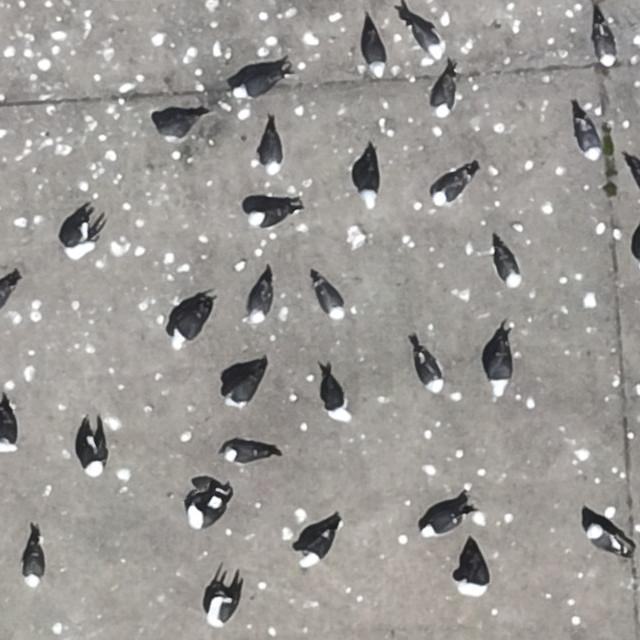umineko: (185, 481, 232, 528), (63, 208, 99, 264), (458, 551, 497, 601), (155, 106, 204, 142), (236, 73, 279, 97), (175, 308, 206, 341), (412, 24, 441, 59), (80, 433, 103, 474), (324, 378, 346, 419), (228, 374, 258, 404), (303, 530, 331, 562), (358, 159, 379, 201), (365, 33, 386, 74), (319, 286, 344, 320), (425, 511, 463, 533), (579, 122, 601, 159), (435, 177, 464, 205), (497, 251, 520, 286), (492, 350, 512, 389), (251, 204, 289, 224), (262, 135, 282, 173), (587, 527, 616, 553), (418, 358, 440, 392), (250, 285, 270, 322), (433, 79, 454, 114), (24, 545, 43, 583), (0, 408, 16, 448), (596, 31, 614, 66), (211, 598, 234, 624), (225, 446, 261, 462), (594, 224, 614, 240)
